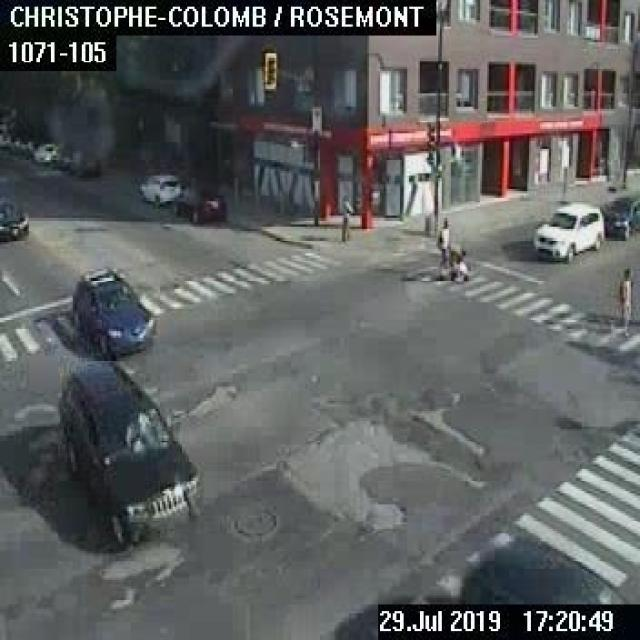pedestrian: (435, 216, 470, 280), (614, 266, 632, 334), (340, 193, 351, 241)
vehicle: (56, 360, 199, 547), (458, 547, 602, 602), (71, 266, 153, 355), (533, 201, 602, 260), (174, 187, 225, 222), (603, 195, 638, 238), (139, 174, 179, 204), (0, 199, 27, 239), (62, 150, 98, 176), (32, 144, 56, 160)
